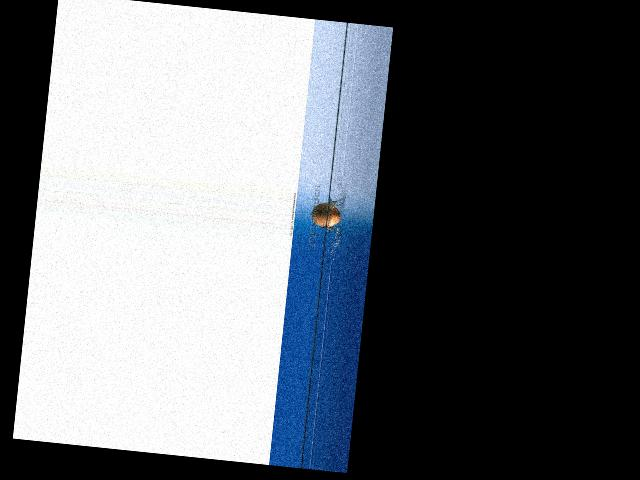egg: (310, 201, 341, 228)
